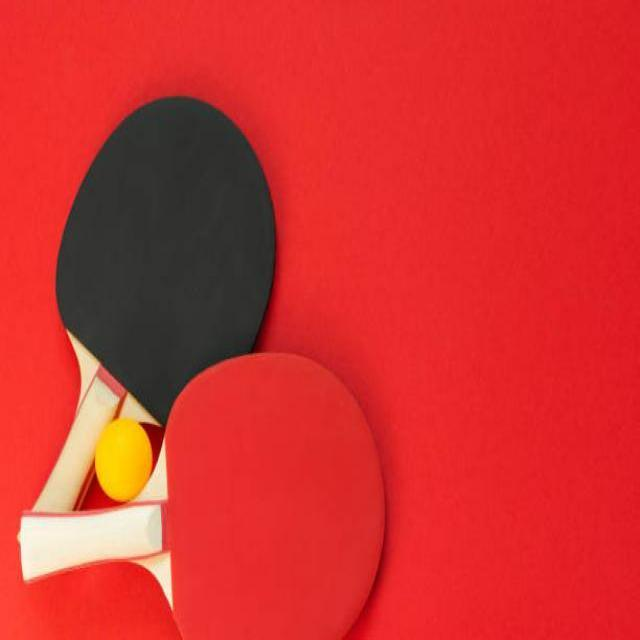oball: (96, 418, 150, 500)
